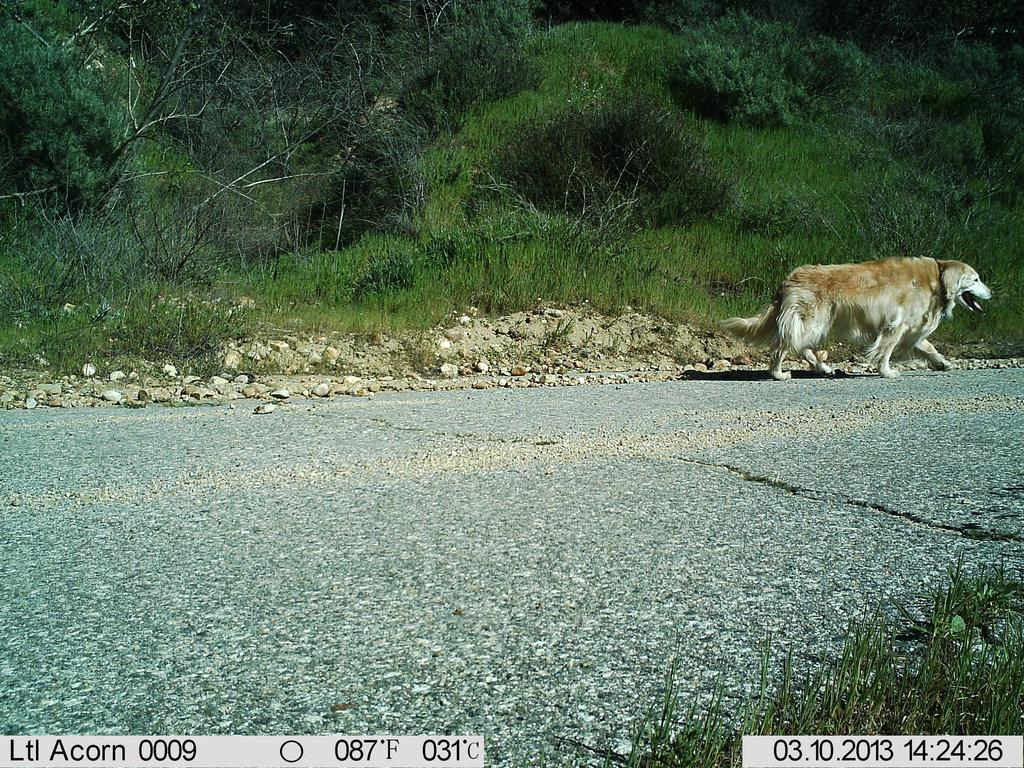dog: (712, 251, 1005, 386)
